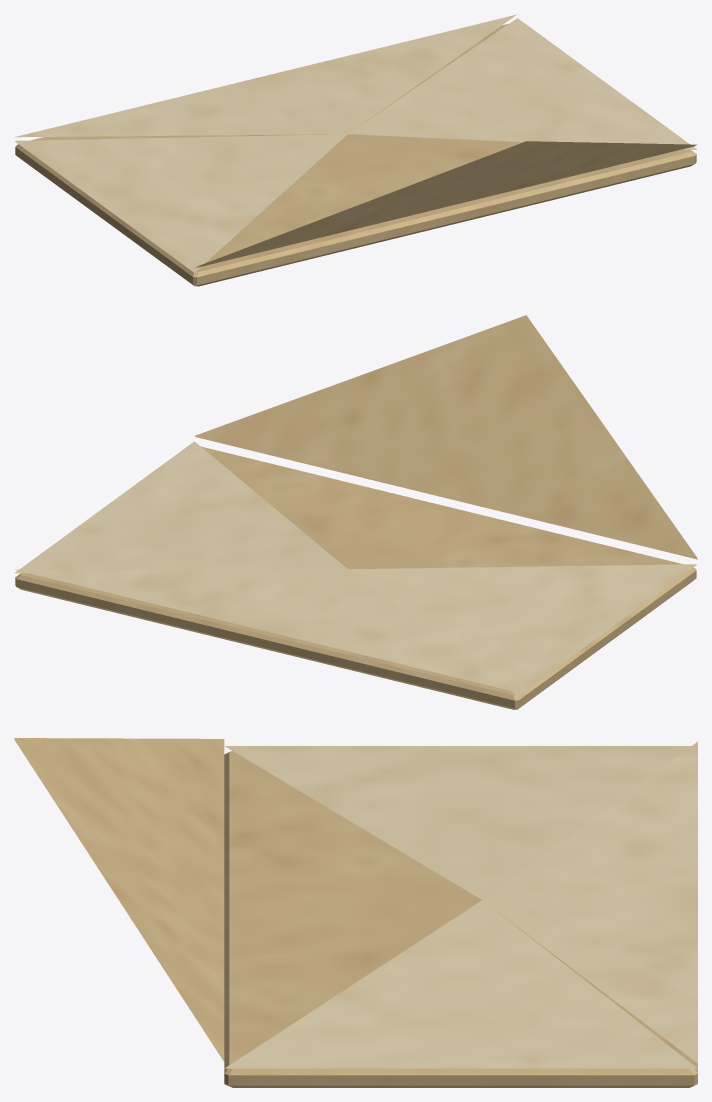
Rendered from Envelope_Open.obj.
3 renders of one model, top to bottom at view 1: azimuth 30°, elevation 25°; view 2: azimuth 150°, elevation 25°; view 3: azimuth 270°, elevation 25°, orthographic. The views are drawn at different scales.
Visible parts, largest first — view 1: Envelope_Open_Mesh; view 2: Envelope_Open_Mesh; view 3: Envelope_Open_Mesh.
Boxes of the visible parts, x1,y1,x2,y2 form: Envelope_Open_Mesh: (14, 14, 697, 286); Envelope_Open_Mesh: (14, 315, 697, 709); Envelope_Open_Mesh: (14, 738, 697, 1087).
Size of the model in its own units: 0.29 by 0.08 by 0.26.
2 materials, 2 textured.
